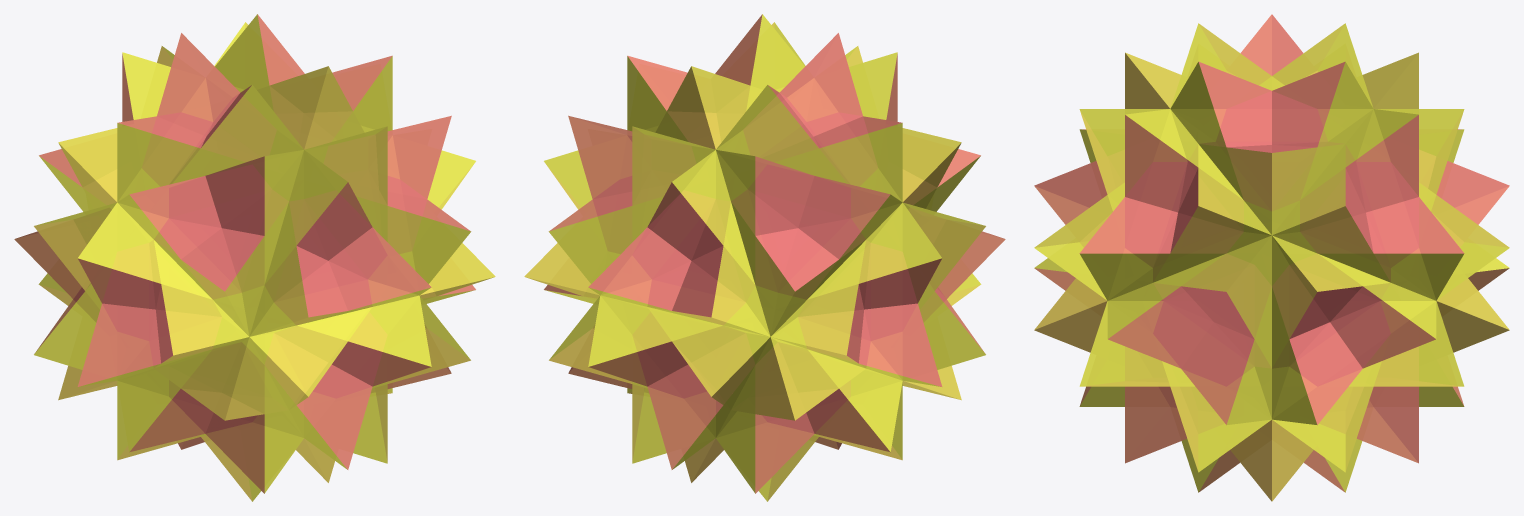
File: GreatStellatedTruncatedDodecahedron.obj
The picture shows the model from 3 angles, left to right: view 1: azimuth 30°, elevation 25°; view 2: azimuth 150°, elevation 25°; view 3: azimuth 270°, elevation 25°; orthographic projection. The views are drawn at different scales.
Size of the model in its own units: 1.24 by 1.24 by 1.24.
